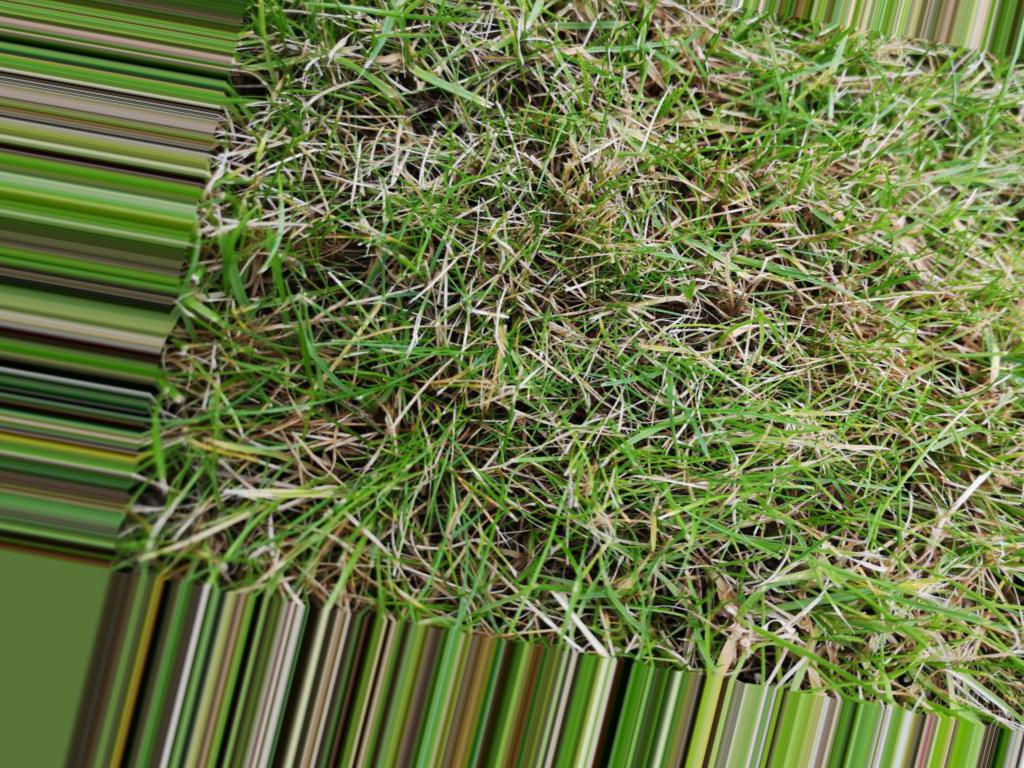patch: (918, 318, 965, 357)
